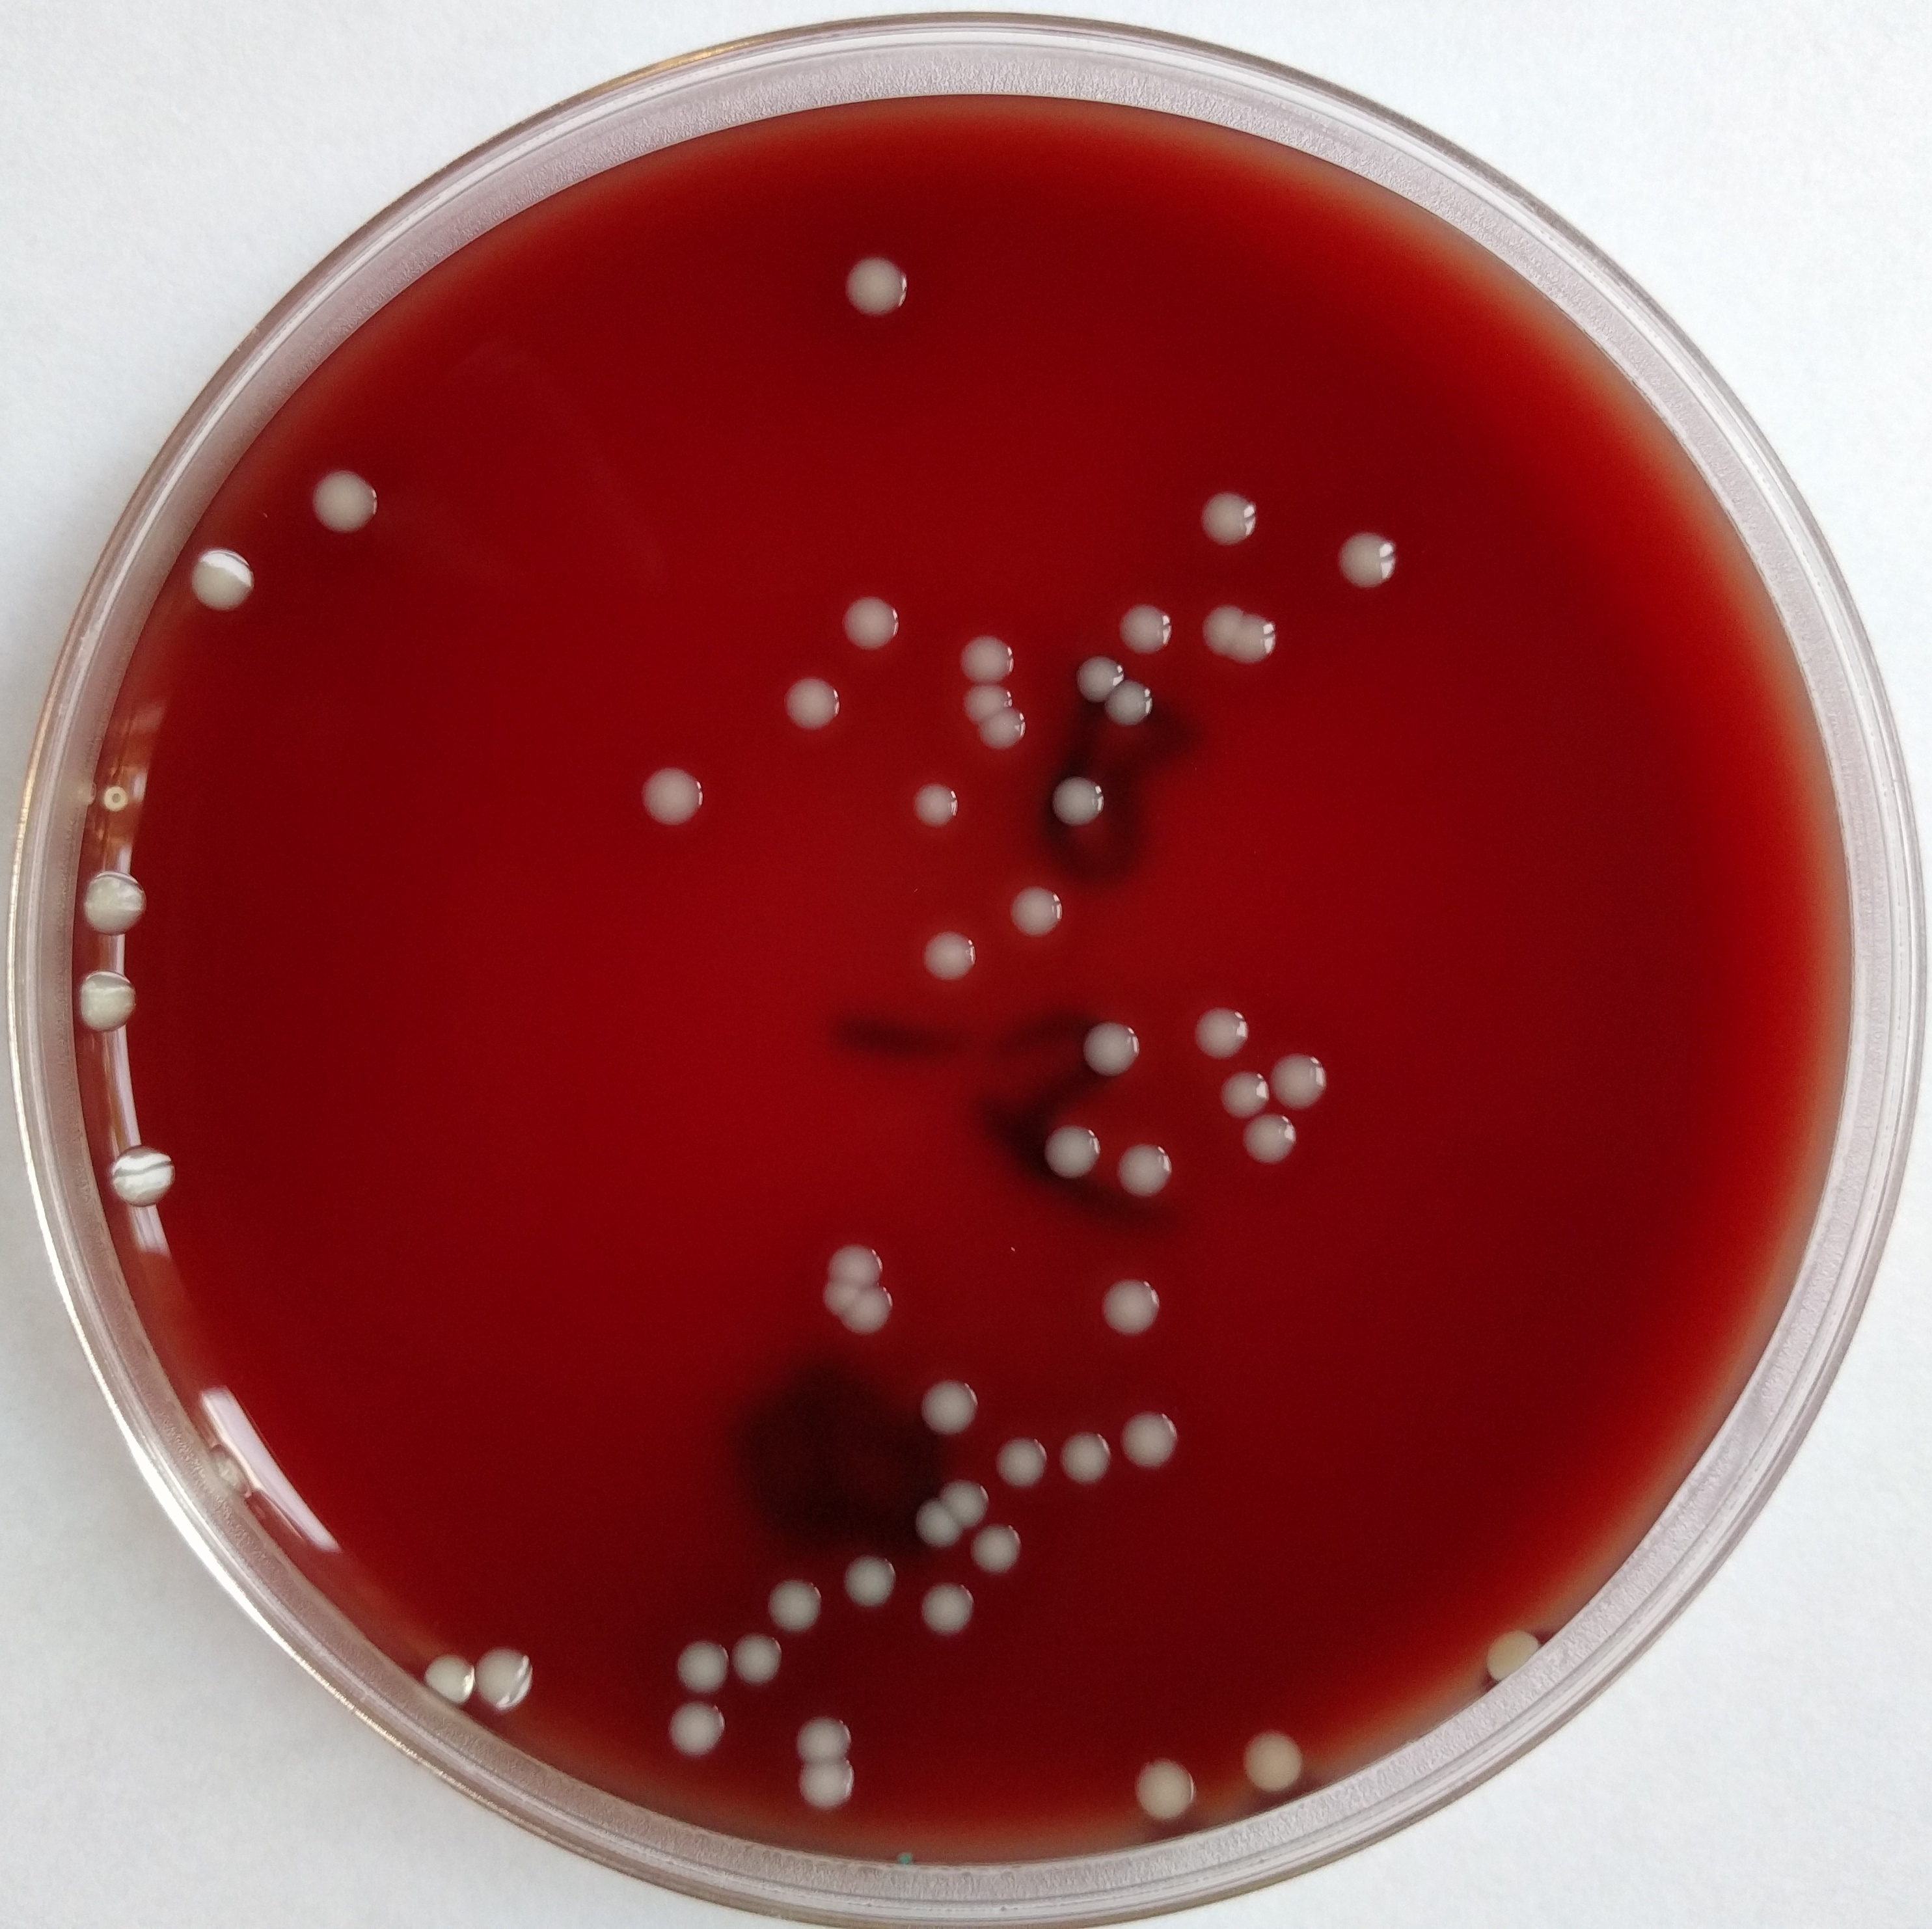sp01: (820, 237, 921, 329), (1221, 1712, 1320, 1804), (1177, 472, 1267, 564), (901, 912, 992, 1000), (62, 950, 152, 1039), (94, 1127, 187, 1210), (1091, 1256, 1181, 1341), (635, 765, 728, 846), (299, 459, 387, 541), (833, 578, 910, 669), (1326, 519, 1409, 602), (1039, 1102, 1117, 1191), (78, 857, 156, 940), (1476, 1606, 1554, 1689), (1068, 1012, 1156, 1085), (916, 1570, 1008, 1639), (840, 1537, 917, 1618), (788, 1694, 870, 1772), (1131, 1749, 1207, 1832), (1241, 1102, 1320, 1180), (907, 1376, 1004, 1440), (187, 539, 255, 631), (668, 1616, 737, 1705), (1177, 989, 1255, 1067), (1004, 876, 1078, 956), (774, 664, 856, 737), (1055, 1410, 1124, 1494), (753, 1565, 841, 1630), (810, 1221, 901, 1282), (472, 1629, 541, 1710), (1209, 1056, 1285, 1129), (1115, 1408, 1191, 1480), (1114, 1123, 1188, 1196), (721, 1620, 795, 1692), (958, 1514, 1036, 1583), (785, 1765, 870, 1827), (652, 1694, 735, 1756), (1061, 639, 1140, 701), (1267, 1048, 1354, 1104), (408, 1639, 474, 1713), (953, 629, 1023, 691), (1119, 588, 1188, 650), (935, 1464, 995, 1533), (903, 774, 962, 843), (955, 677, 1027, 730), (1112, 684, 1177, 742), (833, 1288, 898, 1344), (990, 1433, 1055, 1489), (912, 1496, 972, 1556), (813, 1256, 870, 1320), (1052, 774, 1108, 830), (974, 710, 1043, 756), (1234, 617, 1283, 668), (1202, 601, 1241, 657)
